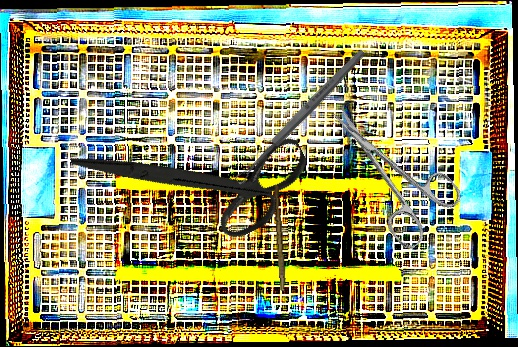Iris Scissors: (69, 65, 325, 290), (308, 83, 470, 253)
Scalpel Handle: (271, 184, 289, 292)
Surgical Spoon: (232, 47, 368, 186)
